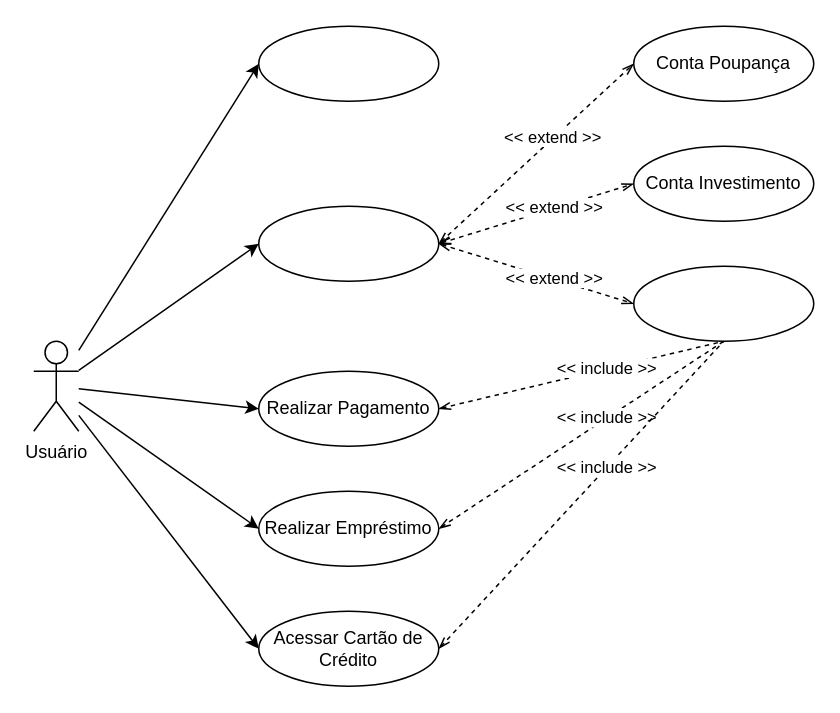
Some shapes in this 840 by 713 pixel diagram are drawn without their labels. Each missing label, with the box of its shape:
Acessar Conta: (257, 205, 439, 281)
Conta Corrente: (632, 265, 814, 341)
Fazer Login: (257, 25, 439, 101)
